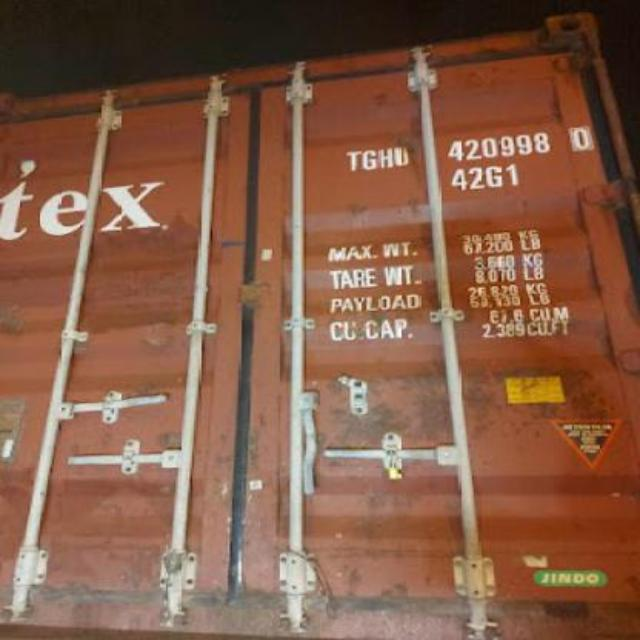0: (568, 122, 594, 150), (480, 130, 498, 160)
2: (464, 128, 480, 164)
4: (440, 130, 464, 163)
8: (532, 126, 552, 160)
9: (496, 130, 516, 160), (514, 129, 532, 161)
G: (360, 141, 378, 173)
H: (378, 142, 394, 168)
T: (342, 140, 360, 174)
U: (394, 140, 410, 174)
